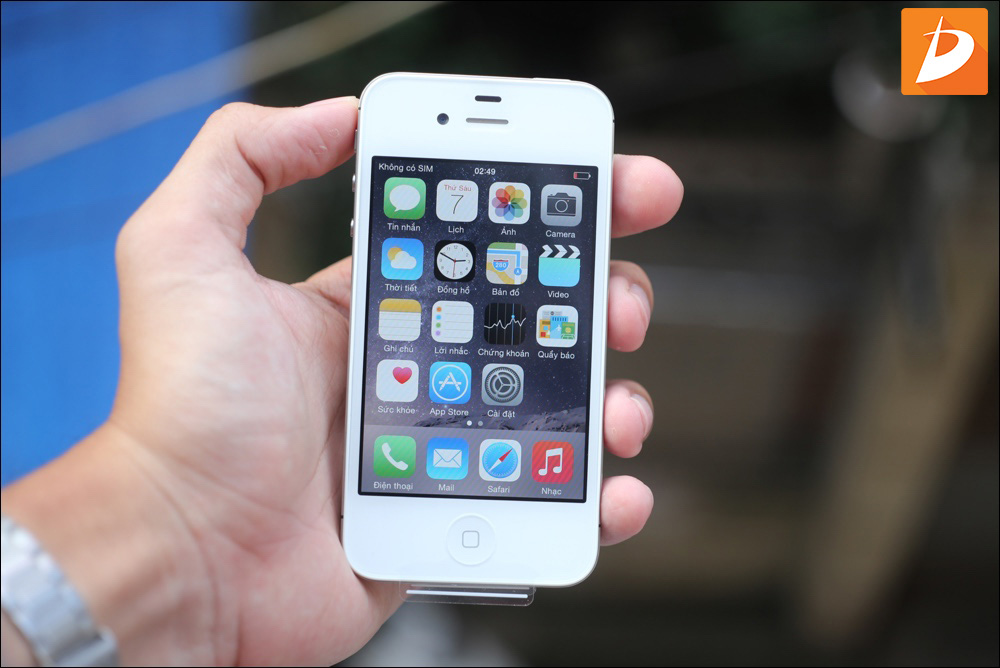iphone: (333, 63, 614, 590)
iphone4: (338, 63, 619, 590)
